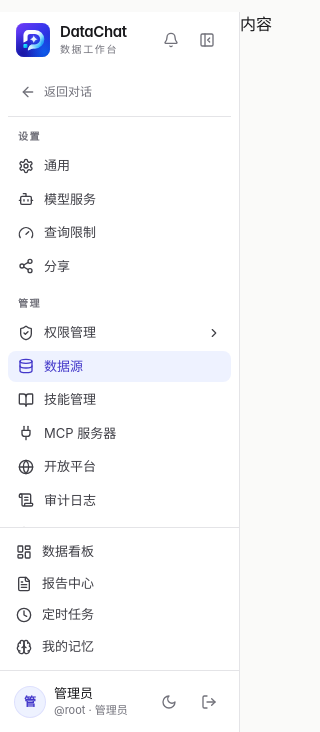
Test: AdminShell › collapses the access group and expands it on demand
The image size is (320, 732).
Check: the link "角色" is not shown
Click the button "权限管理" at point(120, 333), box [8,317,231,348]
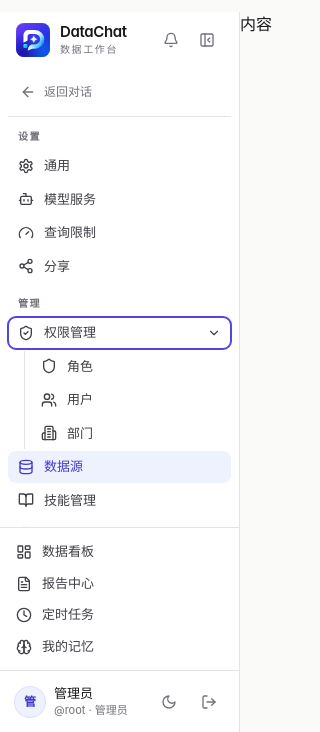
Check: the button "权限管理" is expanded, box [8,317,231,348]
Check: the link "角色" is shown, box [41,358,93,374]
Check: the link "部门" is shown, box [41,424,93,441]
